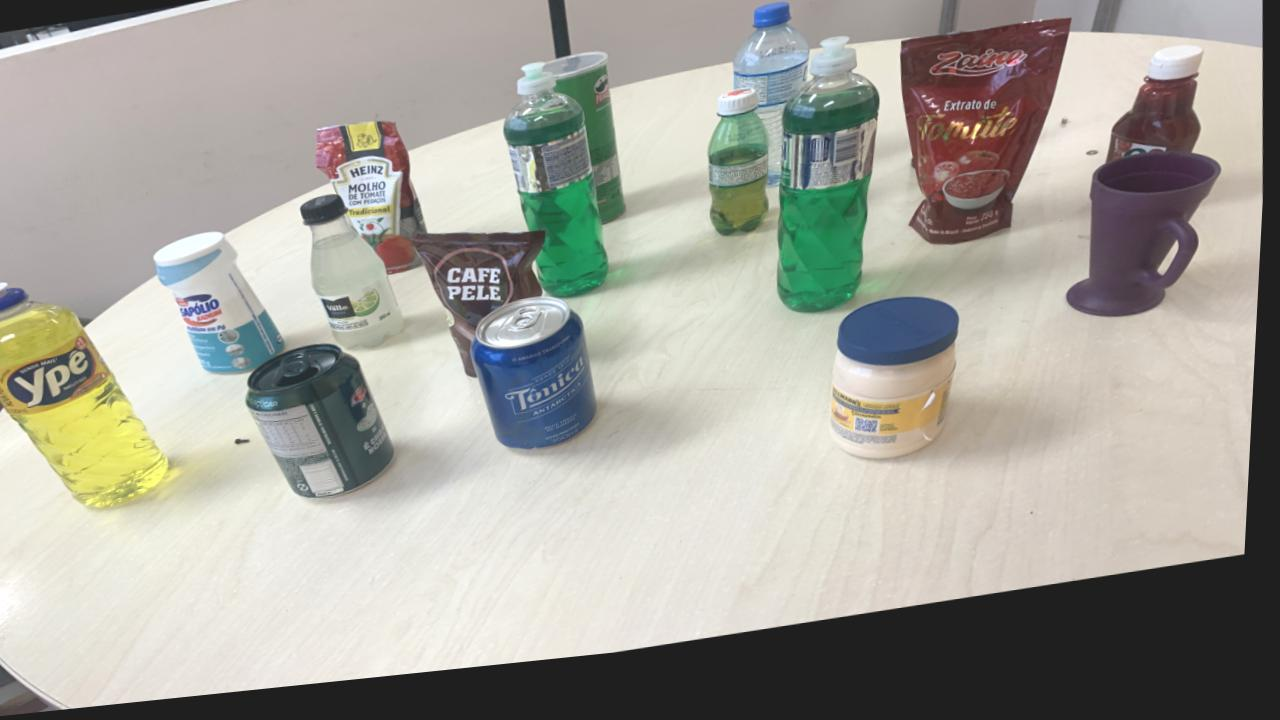Cleaner-Cleanup_Items: (156, 237, 288, 379)
Coffee-Pantry_Items: (414, 242, 547, 387)
Detergent-Cleanup_Items: (0, 284, 174, 511), (780, 56, 881, 331), (506, 74, 610, 310)
Guarana-Drinks: (709, 105, 772, 251)
Guarana_Can-Drinks: (251, 351, 399, 506)
Ketchup-Pantry_Items: (901, 41, 1071, 266), (318, 129, 429, 283), (1110, 70, 1204, 186)
Mayonnaise-Pantry_Items: (835, 317, 962, 479)
Pringles-Snacks: (545, 64, 627, 237)
Soda-Drinks: (303, 203, 405, 357)
Tonic-Drinks: (476, 308, 602, 462)
Water_Bottle-Drinks: (735, 19, 811, 204)
